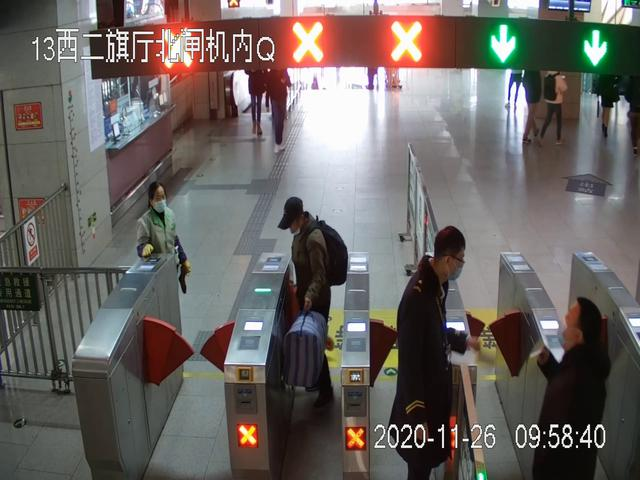person: (389, 225, 466, 480), (278, 196, 348, 406), (534, 298, 609, 480), (138, 182, 190, 344), (266, 66, 291, 152), (543, 71, 568, 143), (521, 68, 543, 146)
